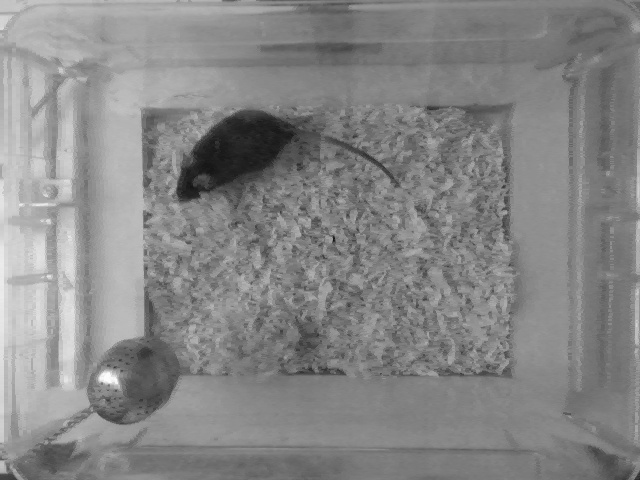mice: (170, 103, 402, 216)
